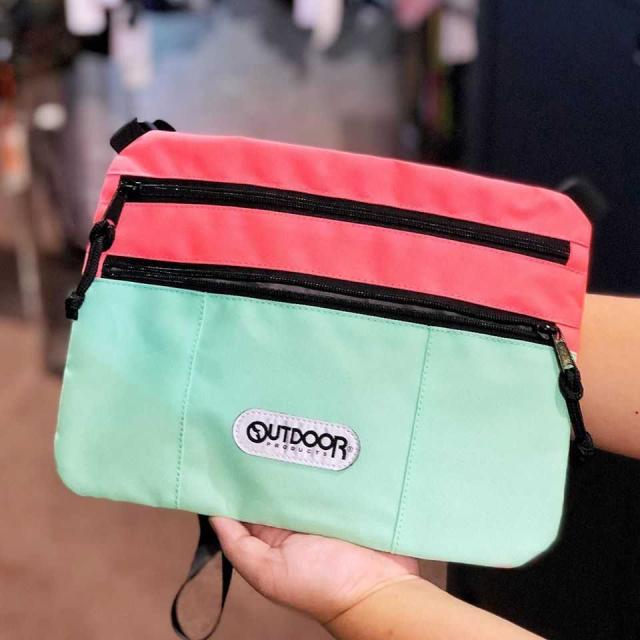Handbag: (53, 85, 607, 570)
